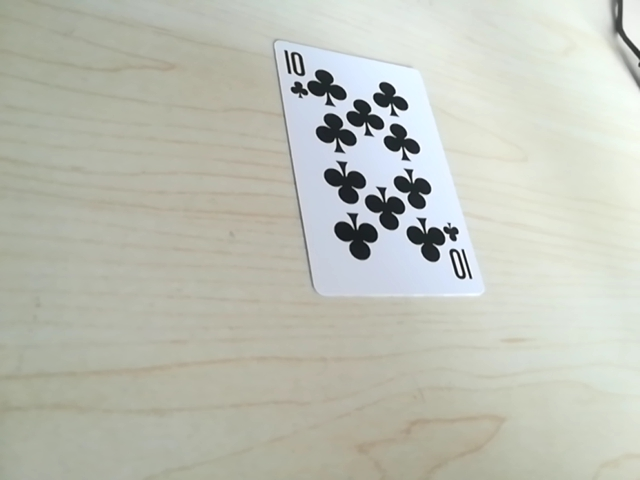mh 10: (429, 231, 473, 287), (280, 51, 322, 104)
